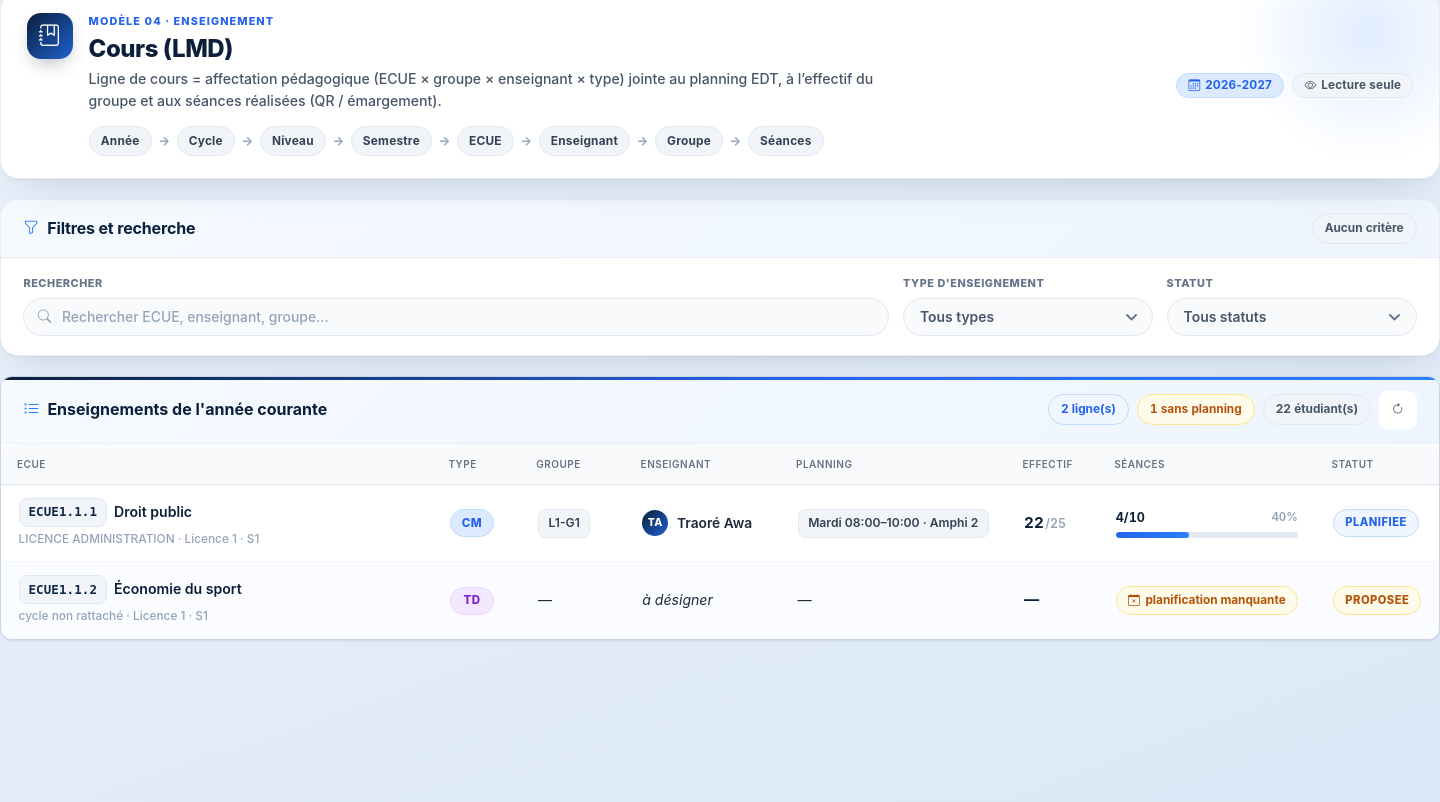
Scenario: Écran Cours (LMD) — lot B › Ouvre le détail avec les séances et le lien présences
This screenshot has width=1440, height=802.
Expected: the text "ECUE1.1.1" is shown, 19,498 -> 107,527
Step 1. Click the row that starts with "ECUE1.1.1" → (720, 524), box 1,485 -> 1439,562
(page scrolled)
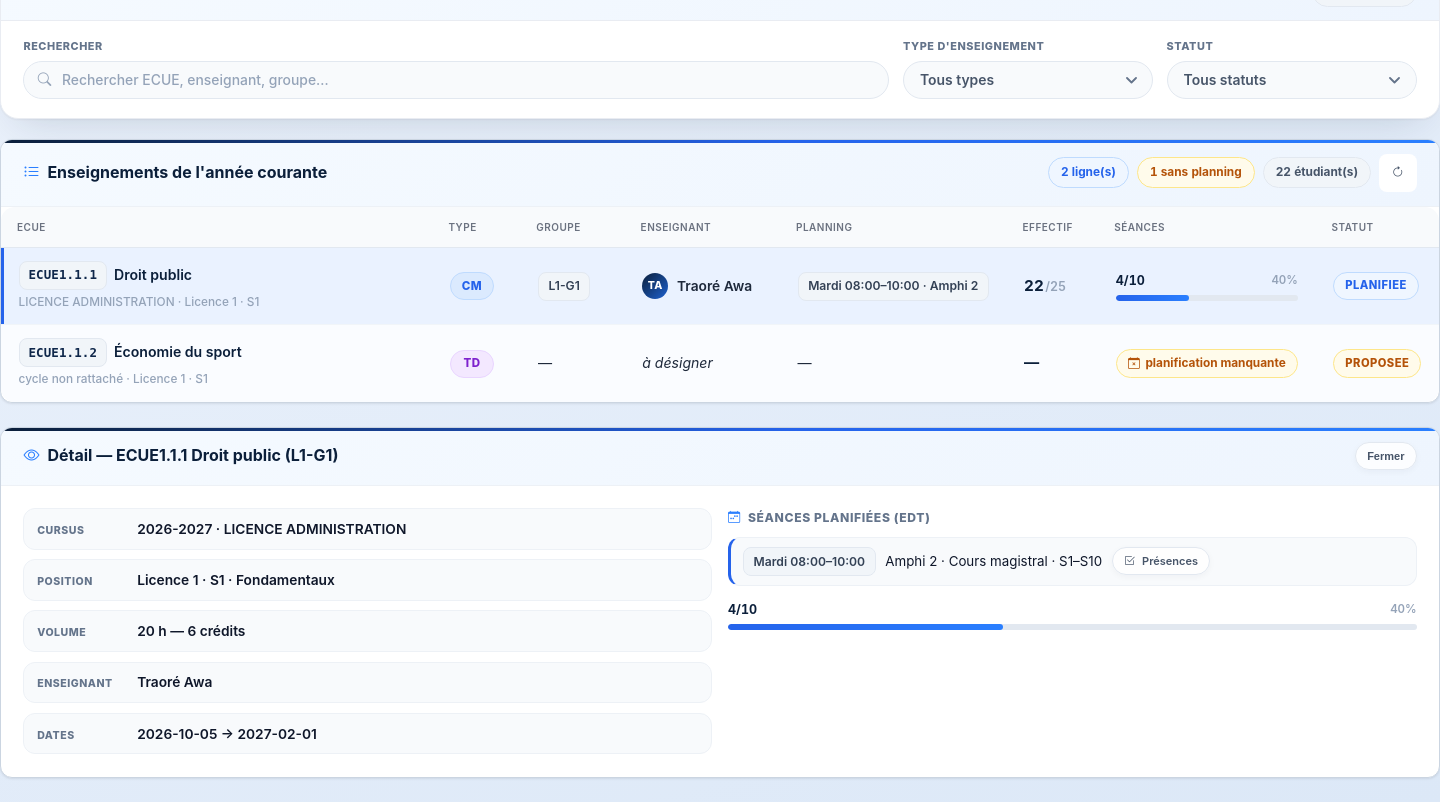
Now the text "Détail — ECUE1.1.1 Droit public (L1-G1)" is shown, box 23,443 -> 338,469
